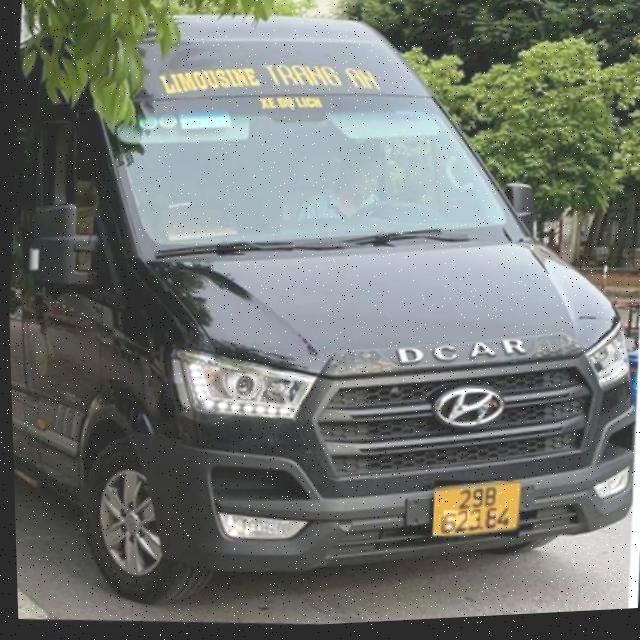car: (1, 0, 640, 620)
plate: (424, 473, 528, 544)
